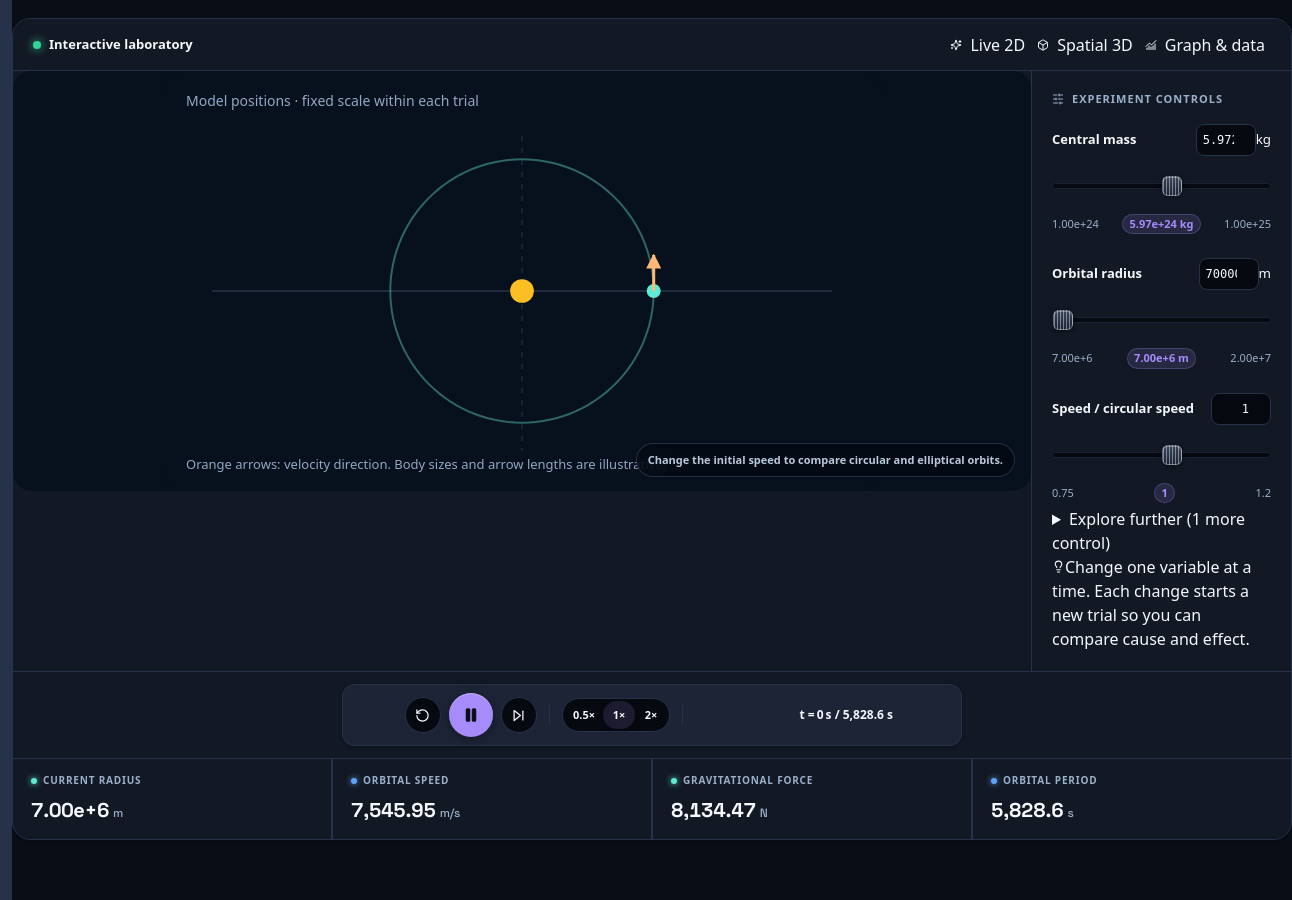
Test: SimulationBoundary & Reduced Visual Mode › keeps controls and reduced-mode data when an approved spatial scene throws
The width and height of the screenshot is (1292, 900).
Click the button "Spatial 3D" at [1085, 44], box [1031, 32, 1139, 58]
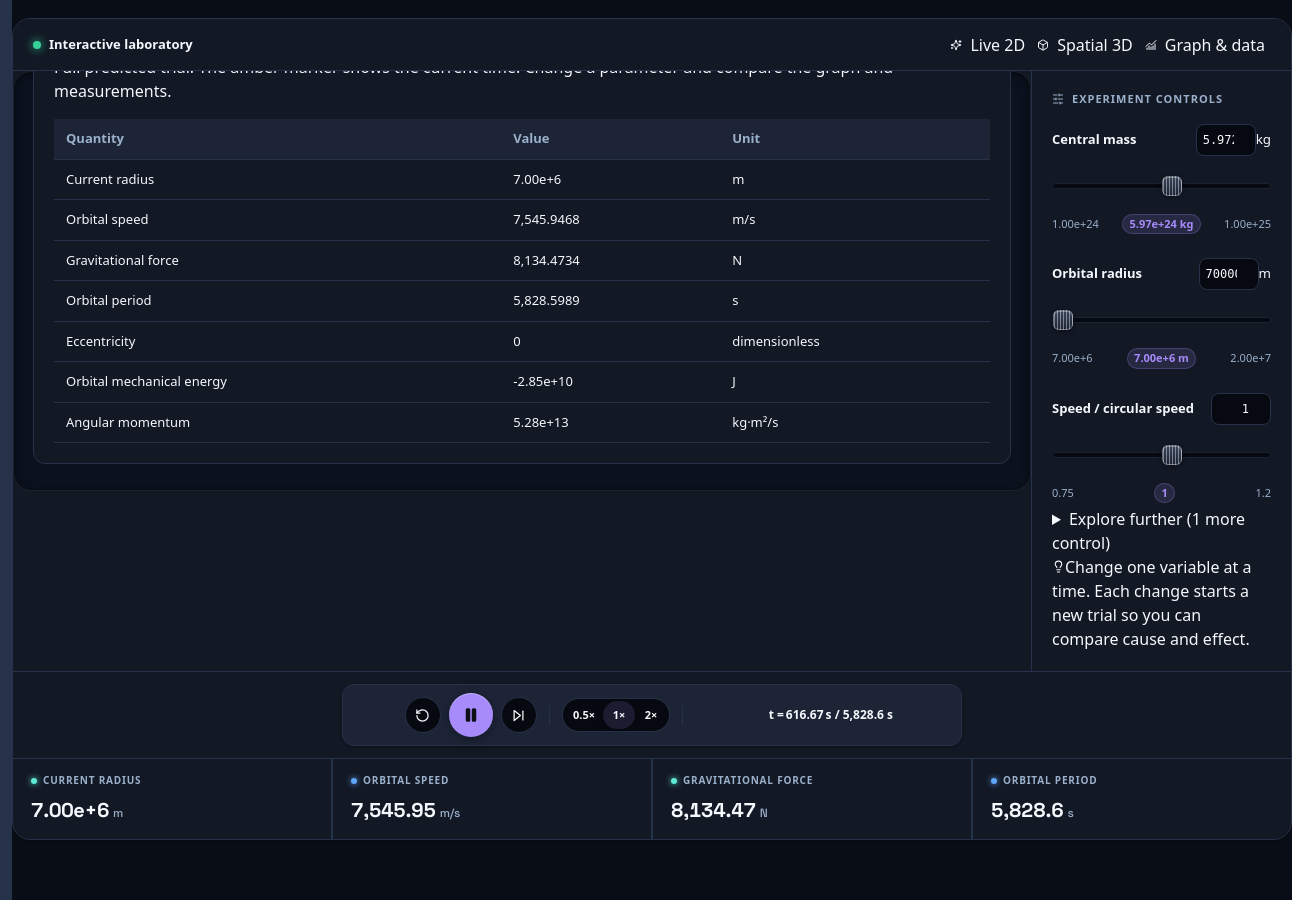
Expected: the text "Experiment controls" is shown, [1052, 91, 1223, 106]
Now the table named "Live measurements" is shown, box [54, 119, 990, 443]
